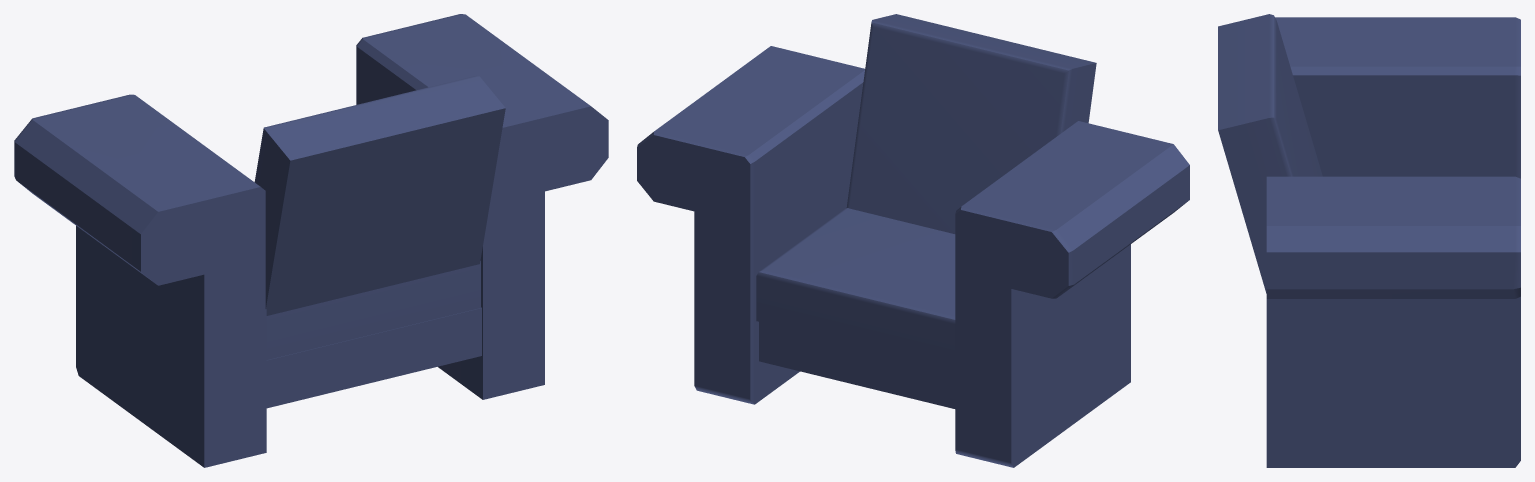
The model's file is Armchair_Mesh.fbx.
3 renders of one model, left to right at view 1: azimuth 30°, elevation 25°; view 2: azimuth 150°, elevation 25°; view 3: azimuth 270°, elevation 25°, orthographic. The views are drawn at different scales.
Visible parts, largest first — view 1: polySurface90; view 2: polySurface90; view 3: polySurface90.
Boxes of the visible parts, x1,y1,x2,y2 form: polySurface90: [14, 14, 608, 467]; polySurface90: [637, 14, 1189, 467]; polySurface90: [1218, 14, 1520, 467].
Bounding box in the file's own units: 27.59 × 18.2 × 15.65.
